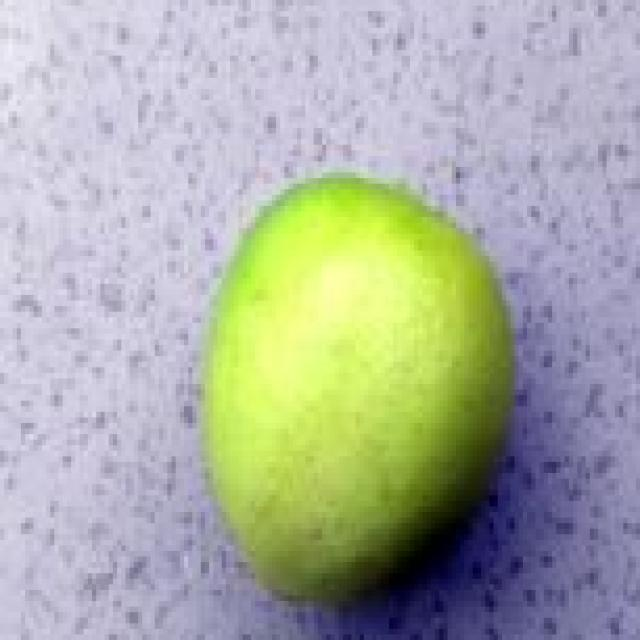Good_Lime-10-21-days: (197, 173, 515, 607)
